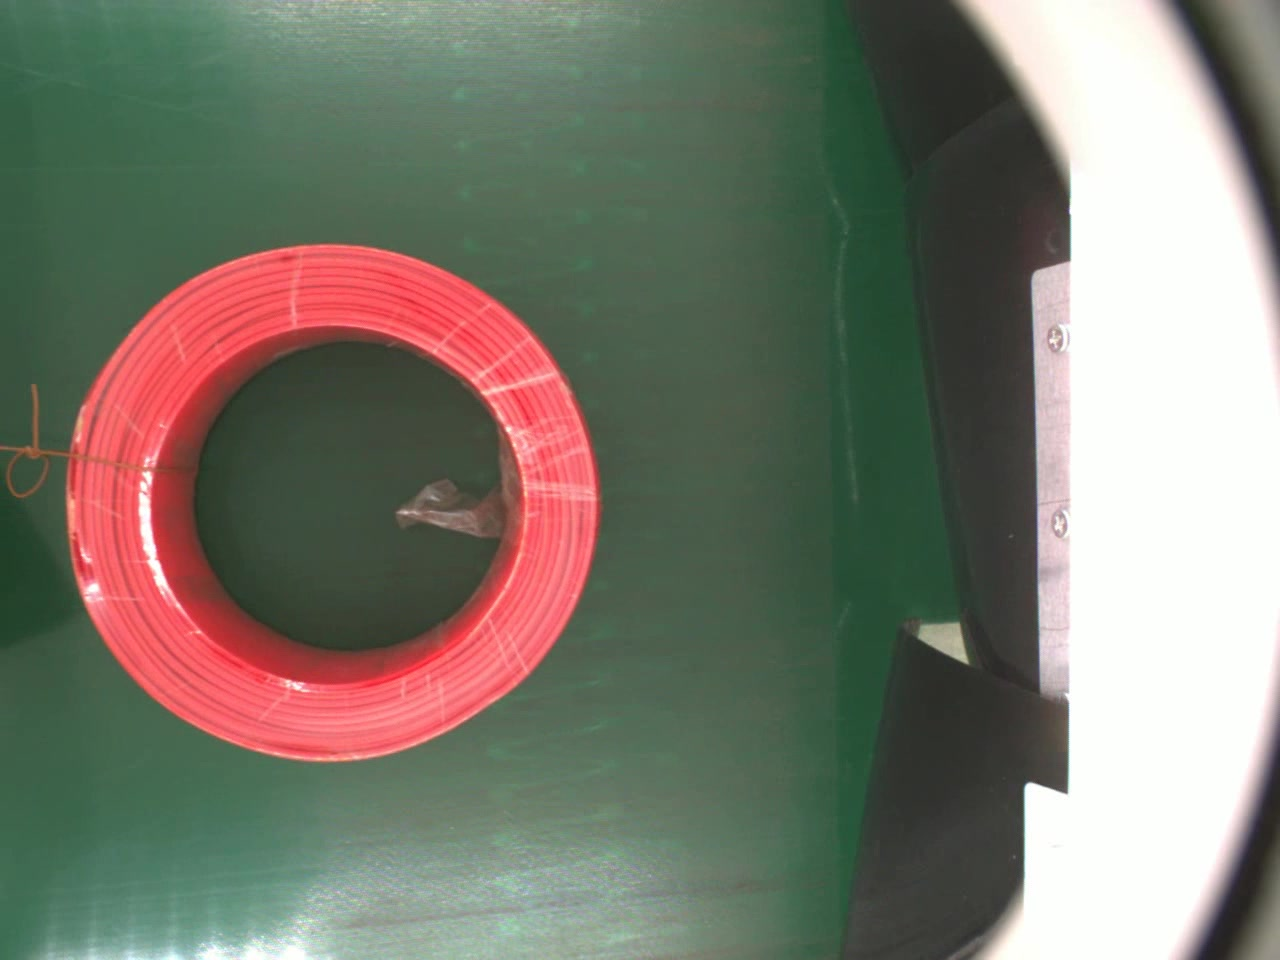red: (65, 243, 605, 768)
